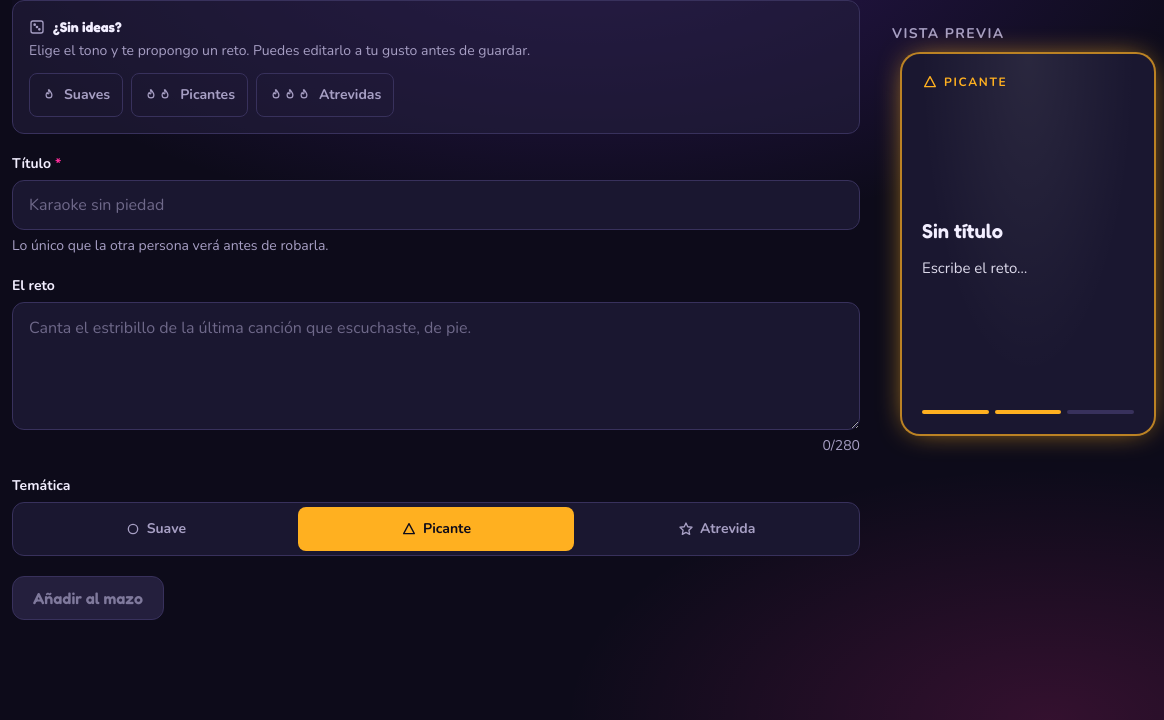
Test: CardEditor › impide guardar mientras falte el título o el reto
Check: the button "Añadir al mazo" is disabled, box x1=12 y1=576 x2=164 y2=620
Type "T" into the field labelled "Título*" at (436, 205), box x1=12 y1=180 x2=860 y2=230
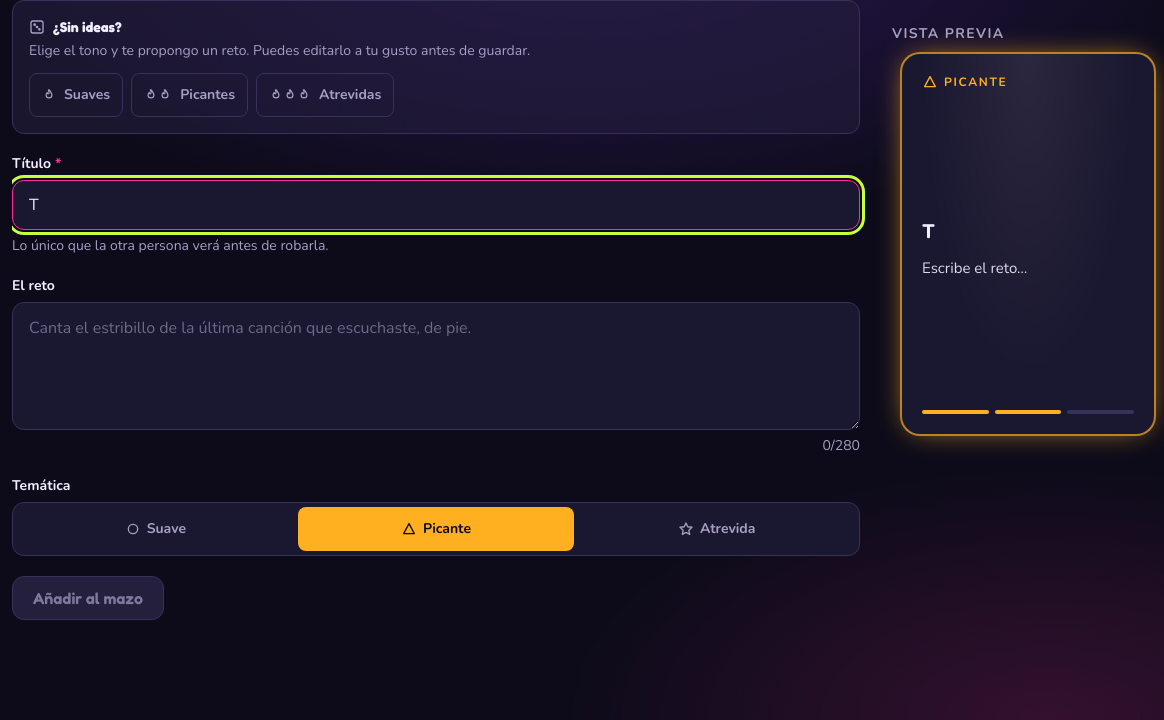
Check: the button "Añadir al mazo" is disabled, box x1=12 y1=576 x2=164 y2=620
Type "Un reto" into the text box labelled "El reto" at (436, 366), box x1=12 y1=302 x2=860 y2=430
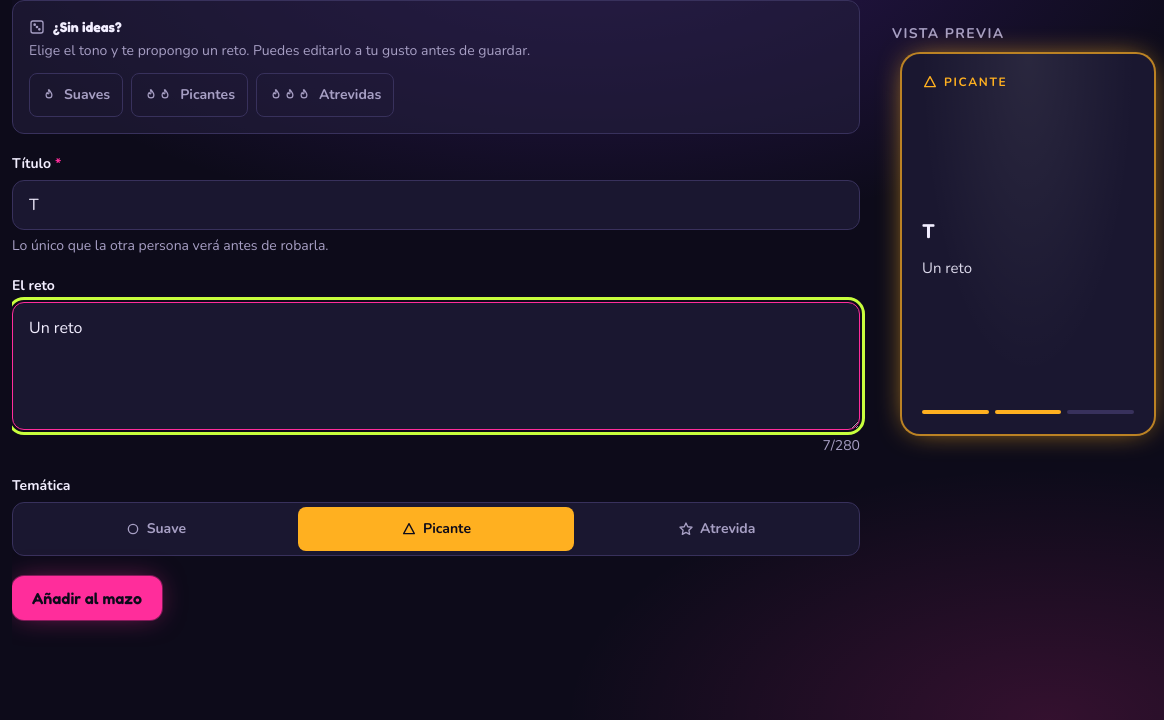
Check: the button "Añadir al mazo" is enabled, box x1=12 y1=576 x2=162 y2=620
